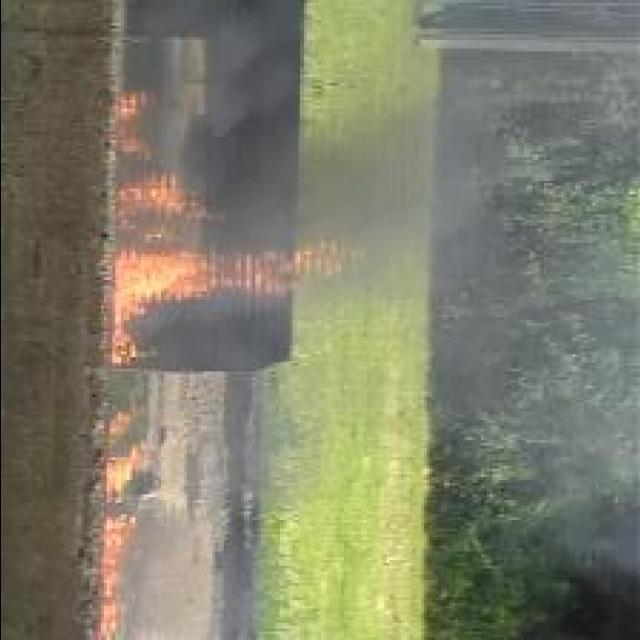Fire: (109, 242, 362, 368), (102, 405, 150, 640), (117, 177, 205, 234), (120, 97, 154, 160)
